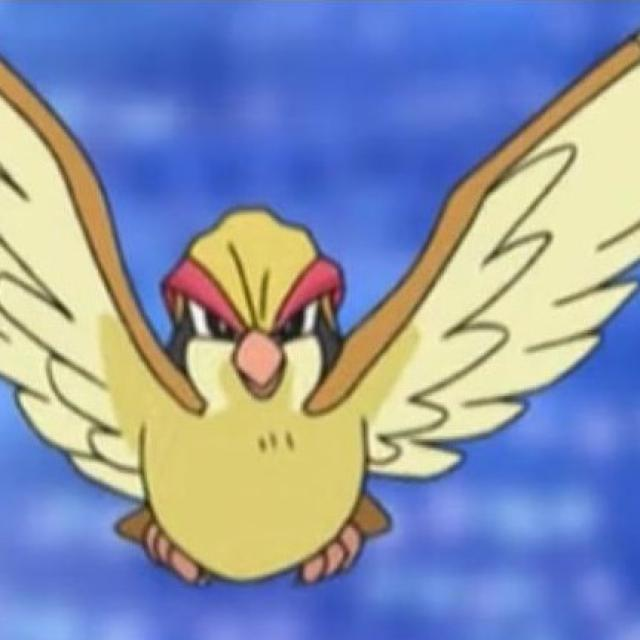Pidgeot: (16, 104, 600, 587)
